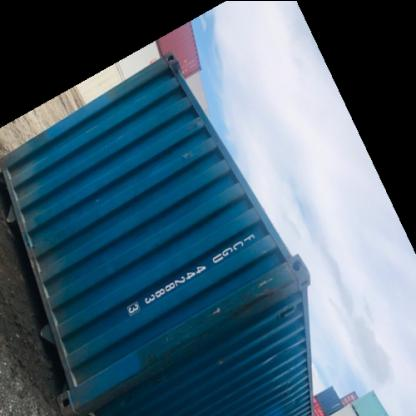Damage: (209, 274, 290, 326), (258, 350, 288, 396), (292, 378, 304, 410)
